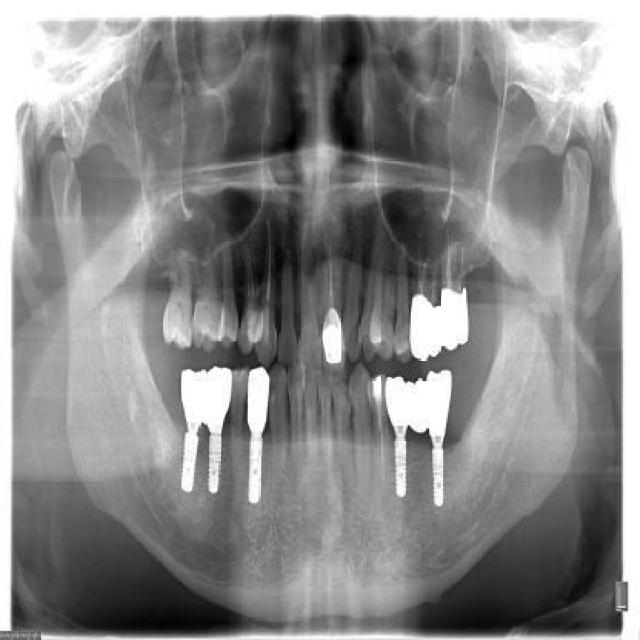dolgu: (370, 372, 388, 402)
implant: (177, 366, 207, 491), (205, 362, 233, 488), (386, 366, 412, 499), (244, 365, 267, 507), (431, 364, 453, 502)
kanal-tedavisi: (368, 405, 390, 488), (257, 222, 277, 308), (325, 240, 339, 313), (416, 238, 430, 296), (445, 228, 457, 292)
kaplama: (438, 286, 471, 351), (410, 296, 443, 360), (321, 309, 343, 365)
kopru: (394, 376, 444, 440)
